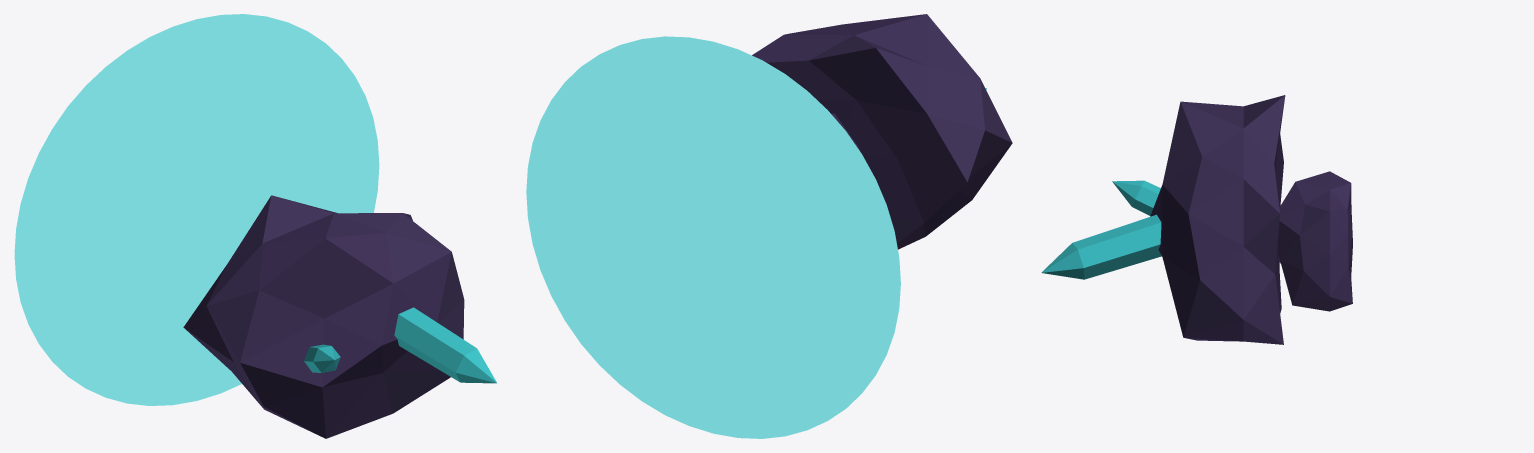
The model's file is rocher_flottant.glb.
3 renders of one model, left to right at view 1: azimuth 30°, elevation 25°; view 2: azimuth 150°, elevation 25°; view 3: azimuth 270°, elevation 25°, orthographic. The views are drawn at different scales.
Parts seen in each view (by area): view 1: lueur, bloc, pointe, pointe2; view 2: lueur, bloc; view 3: bloc, queue, pointe, pointe2.
Boxes of the visible parts, bbox=[...] form: lueur: bbox=[14, 14, 379, 405]; bloc: bbox=[183, 195, 464, 438]; pointe: bbox=[394, 307, 496, 383]; pointe2: bbox=[304, 344, 340, 372]; lueur: bbox=[526, 36, 900, 438]; bloc: bbox=[752, 14, 1012, 249]; bloc: bbox=[1150, 95, 1285, 344]; queue: bbox=[1277, 171, 1352, 311]; pointe: bbox=[1041, 214, 1161, 279]; pointe2: bbox=[1112, 180, 1160, 215].
Bounding box in the file's own units: 3.2 × 3.2 × 3.6.
